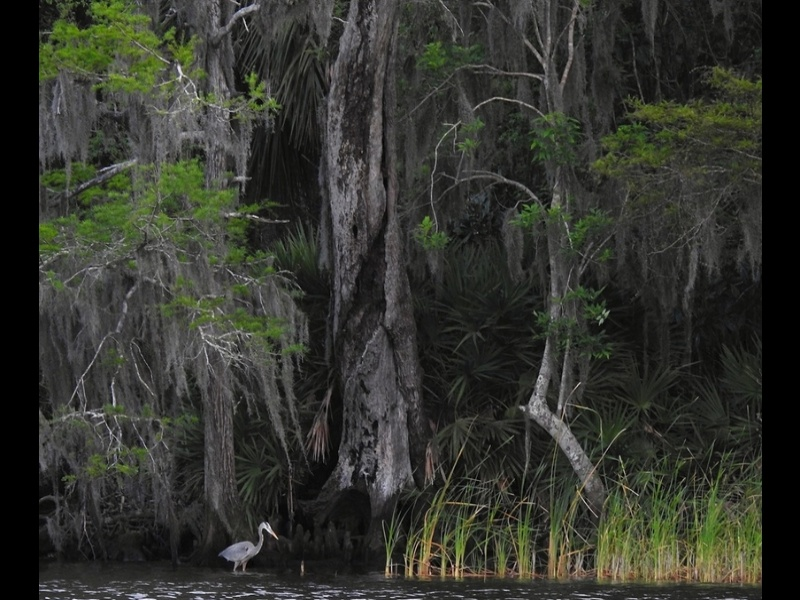heron: (220, 520, 280, 575)
